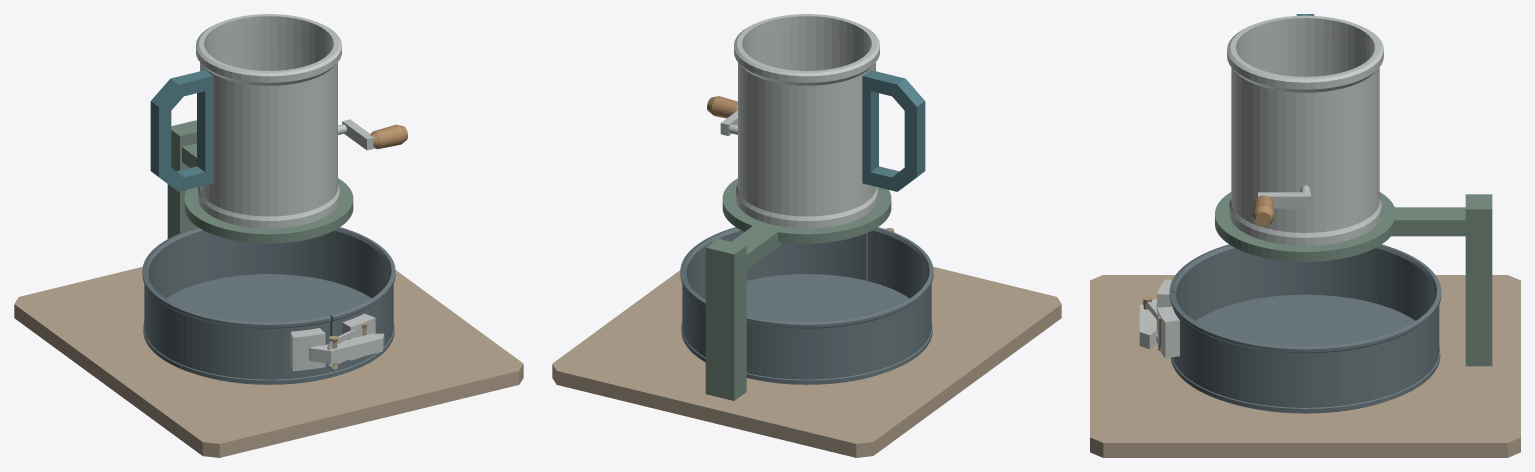
The picture shows the model from 3 angles, left to right: view 1: azimuth 30°, elevation 25°; view 2: azimuth 150°, elevation 25°; view 3: azimuth 270°, elevation 25°; orthographic projection. The views are drawn at different scales.
Visible parts, largest first — view 1: SCENE_ONLY__BaseSingleRearPostCantileverNeckAndWholeAnnularS, sifter__WholeOpenTallCylinderRolledRimAndFoot, pan__WholeRoundSplitWallWithReturnedUpperLip, pan__WholeLowCircularBasePlateAndEdge, sifter__WholeOpenSideHandGrip, pan__WholeFixedOffsetToggleLever, pan__WholeCurvedLatchAnchorLeft, sifter__WholeCrankEndPalmGrip, pan__WholeCurvedLatchAnchorRight, sifter__WholeOutsideOffsetCrankArm; view 2: SCENE_ONLY__BaseSingleRearPostCantileverNeckAndWholeAnnularS, sifter__WholeOpenTallCylinderRolledRimAndFoot, pan__WholeRoundSplitWallWithReturnedUpperLip, pan__WholeLowCircularBasePlateAndEdge, sifter__WholeOpenSideHandGrip, sifter__WholeCrankEndPalmGrip; view 3: SCENE_ONLY__BaseSingleRearPostCantileverNeckAndWholeAnnularS, sifter__WholeOpenTallCylinderRolledRimAndFoot, pan__WholeRoundSplitWallWithReturnedUpperLip, pan__WholeLowCircularBasePlateAndEdge, pan__WholeCurvedLatchAnchorRight, sifter__WholeOutsideOffsetCrankArm, pan__WholeFixedOffsetToggleLever, sifter__WholeCrankEndPalmGrip.
Boxes of the visible parts, x1,y1,x2,y2 form: SCENE_ONLY__BaseSingleRearPostCantileverNeckAndWholeAnnularS: [14, 120, 523, 457]; sifter__WholeOpenTallCylinderRolledRimAndFoot: [196, 14, 341, 228]; pan__WholeRoundSplitWallWithReturnedUpperLip: [142, 227, 395, 379]; pan__WholeLowCircularBasePlateAndEdge: [143, 274, 394, 384]; sifter__WholeOpenSideHandGrip: [150, 70, 213, 191]; pan__WholeFixedOffsetToggleLever: [309, 333, 384, 364]; pan__WholeCurvedLatchAnchorLeft: [290, 328, 325, 371]; sifter__WholeCrankEndPalmGrip: [370, 124, 407, 149]; pan__WholeCurvedLatchAnchorRight: [342, 313, 375, 360]; sifter__WholeOutsideOffsetCrankArm: [342, 119, 374, 150]; SCENE_ONLY__BaseSingleRearPostCantileverNeckAndWholeAnnularS: [552, 178, 1061, 457]; sifter__WholeOpenTallCylinderRolledRimAndFoot: [734, 14, 879, 228]; pan__WholeRoundSplitWallWithReturnedUpperLip: [680, 227, 933, 379]; pan__WholeLowCircularBasePlateAndEdge: [681, 274, 932, 384]; sifter__WholeOpenSideHandGrip: [862, 70, 925, 191]; sifter__WholeCrankEndPalmGrip: [707, 96, 737, 118]; SCENE_ONLY__BaseSingleRearPostCantileverNeckAndWholeAnnularS: [1090, 192, 1520, 457]; sifter__WholeOpenTallCylinderRolledRimAndFoot: [1227, 15, 1383, 245]; pan__WholeRoundSplitWallWithReturnedUpperLip: [1169, 244, 1441, 407]; pan__WholeLowCircularBasePlateAndEdge: [1171, 294, 1440, 413]; pan__WholeCurvedLatchAnchorRight: [1157, 306, 1179, 358]; sifter__WholeOutsideOffsetCrankArm: [1258, 192, 1310, 208]; pan__WholeFixedOffsetToggleLever: [1139, 298, 1156, 349]; sifter__WholeCrankEndPalmGrip: [1252, 195, 1274, 226].
Bounding box in the file's own units: 0.36 × 0.326 × 0.39.
